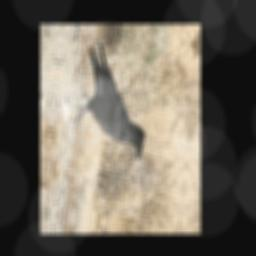Crow: (71, 41, 155, 161)
